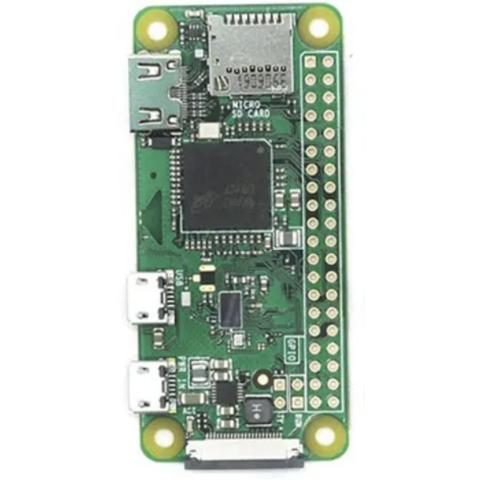Raspberry-Pi-Zero-W: (127, 1, 349, 471)
